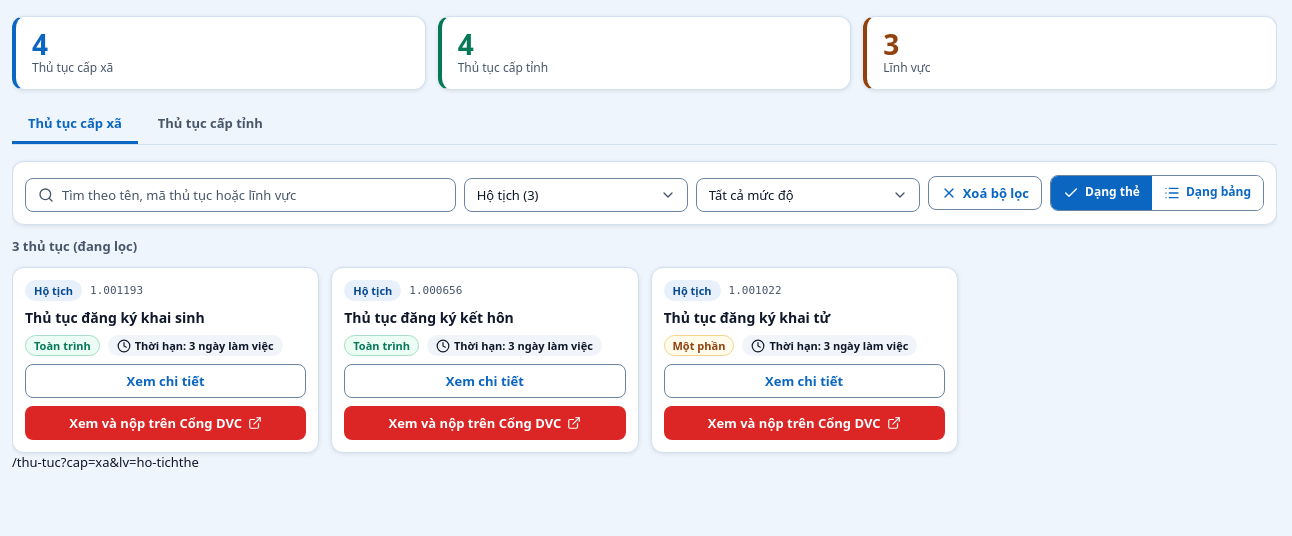
Test: DanhMuc — lĩnh vực lạ và không có kết quả (AC-11, AC-14, AC-20, AC-22) › AC-14: "xyzxyz" + Hộ tịch → thông báo có 4 gợi ý chữ, không có nút trong thông báo; nút trên thanh đưa về đầy đủ
The width and height of the screenshot is (1292, 536).
Type "xyzxyz" into the search field labelled "Tìm theo tên, mã thủ tục hoặc lĩnh vực" at (240, 195), box x1=26 y1=179 x2=455 y2=211
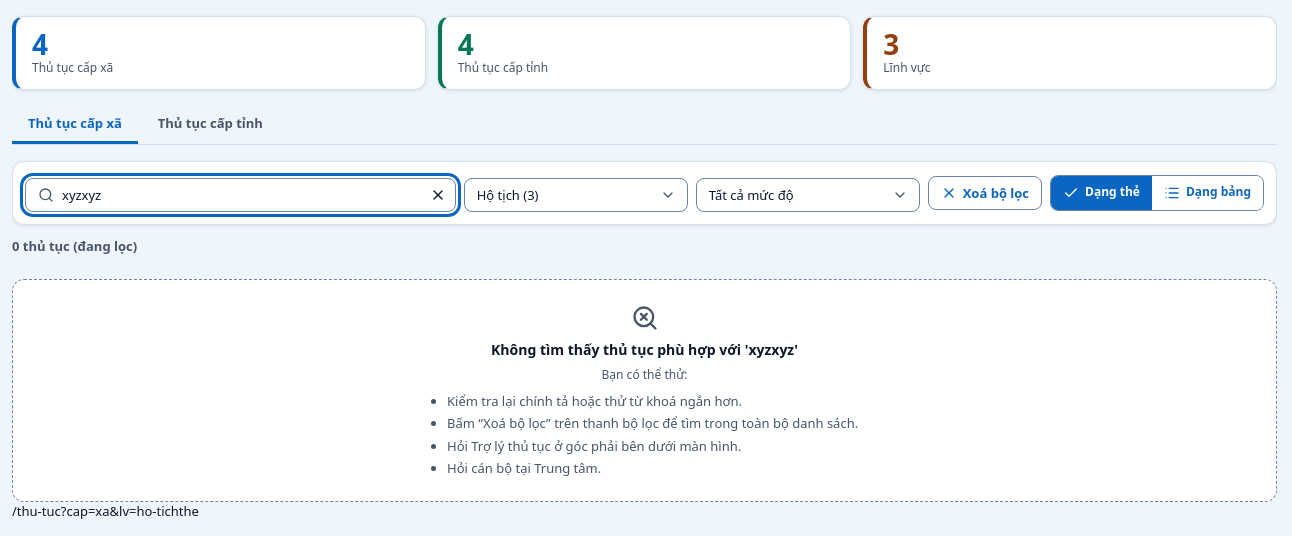
expect the button "Xem chi tiết" is gone: met
expect the text "0 thủ tục (đang lọc)" is shown: met, box x1=12 y1=237 x2=137 y2=255
Click the button "Xoá bộ lọc" at (985, 193), box x1=928 y1=176 x2=1042 y2=210
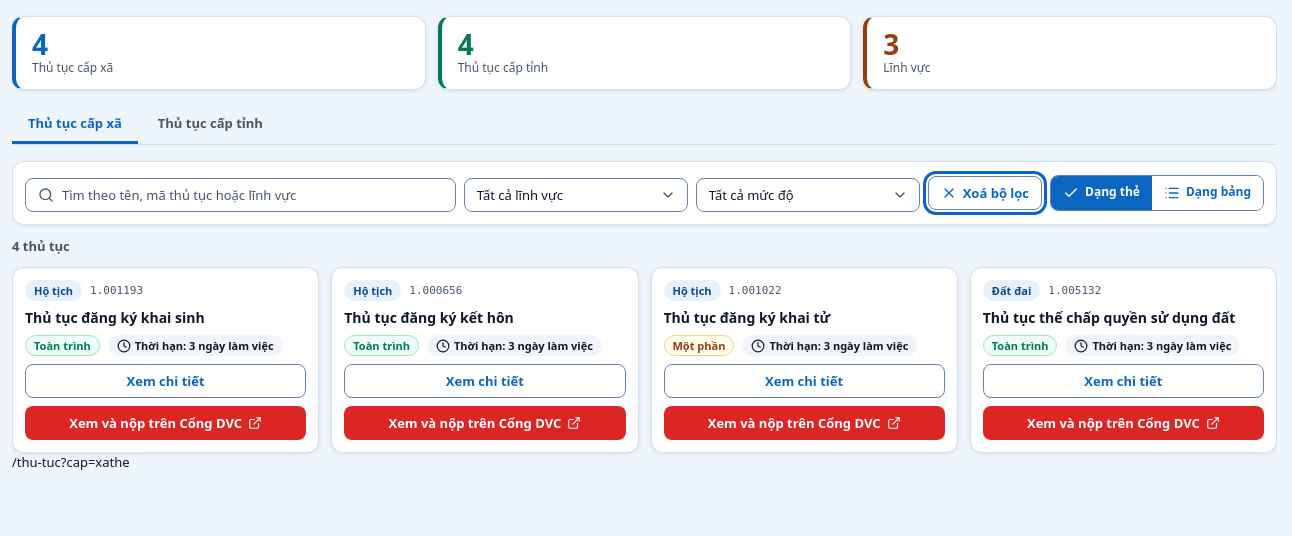
expect the search field labelled "Tìm theo tên, mã thủ tục hoặc lĩnh vực" is empty: met, box x1=26 y1=179 x2=455 y2=211
expect the 1st dropdown named "Lĩnh vực" shows "Tất cả lĩnh vực": met, box x1=464 y1=178 x2=688 y2=212
expect the number of headings is 4: met, box x1=25 y1=308 x2=205 y2=327; x1=344 y1=308 x2=514 y2=327; x1=664 y1=308 x2=830 y2=327; x1=983 y1=309 x2=1264 y2=327
